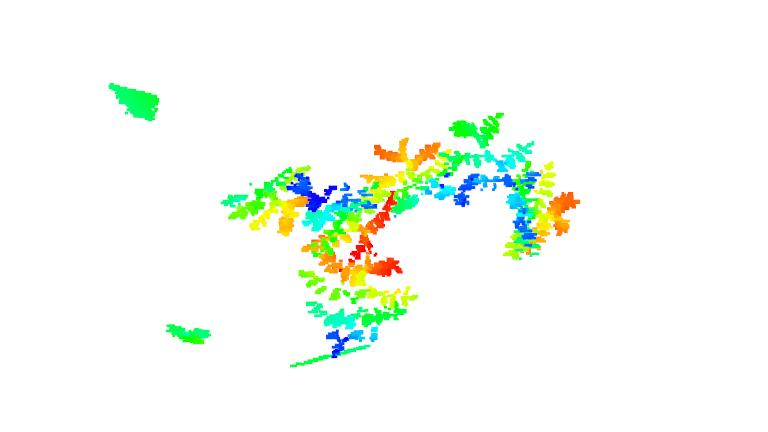chickpea: (290, 245, 418, 361), (221, 166, 366, 238), (445, 110, 538, 203), (362, 132, 461, 210), (502, 164, 579, 260)
